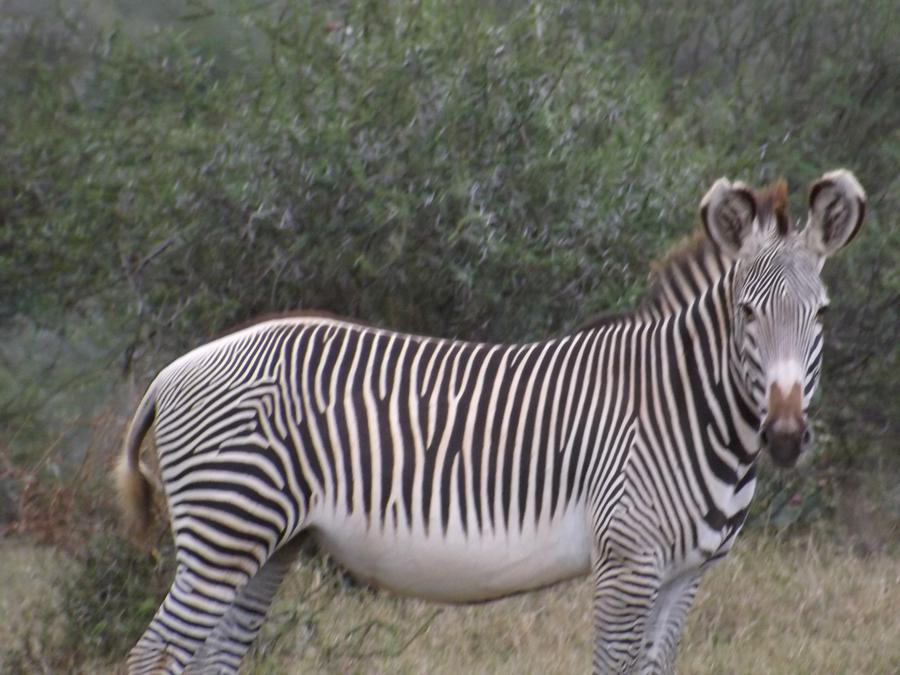zebra_grevys: (140, 296, 680, 576)
